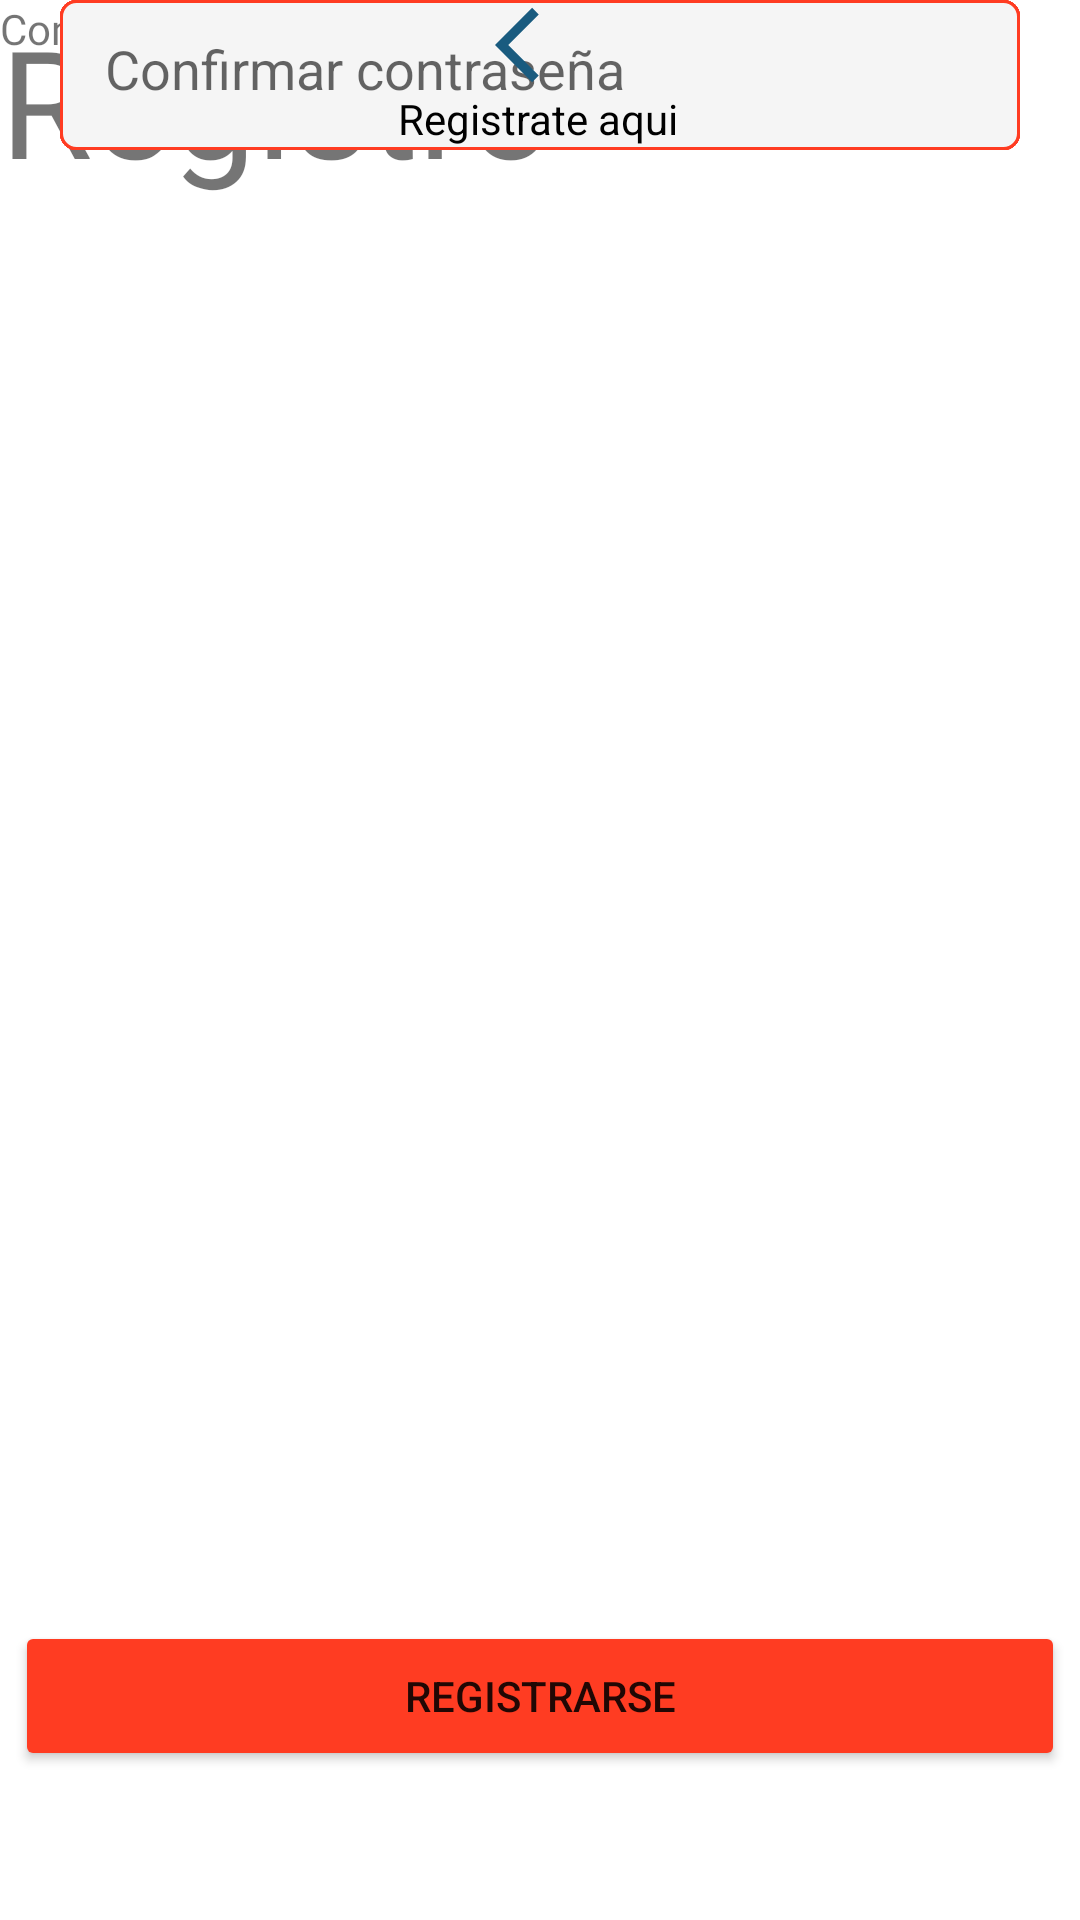

Named icons in this screenshot (1080x1920) and their bounding boxes, {"x1": x1, "y1": y1, "x2": x2, "y2": y2}:
arrow left: {"x1": 495, "y1": 8, "x2": 564, "y2": 90}
